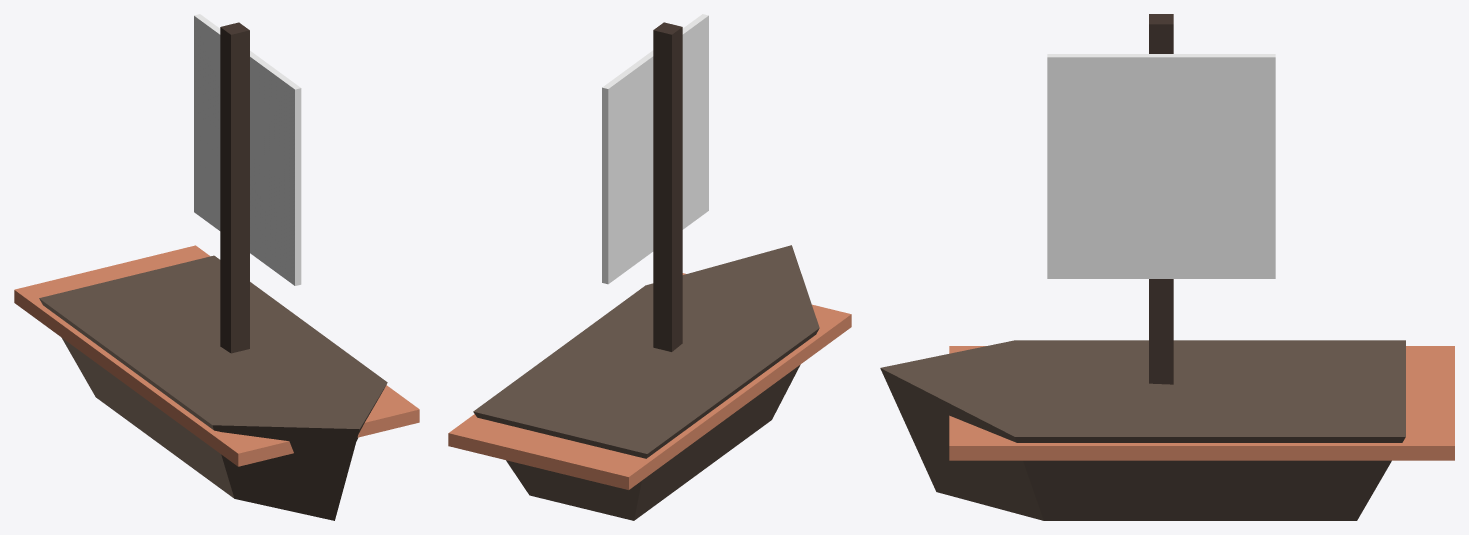
Rendered from boat.glb.
3 views of the same model, side by side, from view 1: azimuth 30°, elevation 25°; view 2: azimuth 150°, elevation 25°; view 3: azimuth 270°, elevation 25° (orthographic). The views are drawn at different scales.
Parts seen in each view (by area): view 1: hull, sail, detail_stripe, mast; view 2: hull, sail, detail_stripe, mast; view 3: hull, sail, detail_stripe, mast.
Boxes of the visible parts, x1,y1,x2,y2 form: hull: (39, 255, 387, 520); sail: (194, 14, 301, 285); detail_stripe: (14, 245, 419, 466); mast: (220, 22, 249, 353); hull: (473, 245, 819, 520); sail: (602, 14, 708, 284); detail_stripe: (448, 273, 851, 489); mast: (653, 22, 682, 351); hull: (880, 340, 1405, 520); sail: (1047, 54, 1275, 278); detail_stripe: (949, 346, 1454, 460); mast: (1149, 14, 1173, 384).
Bounding box in the file's own units: 0.29 × 0.64 × 0.705.
